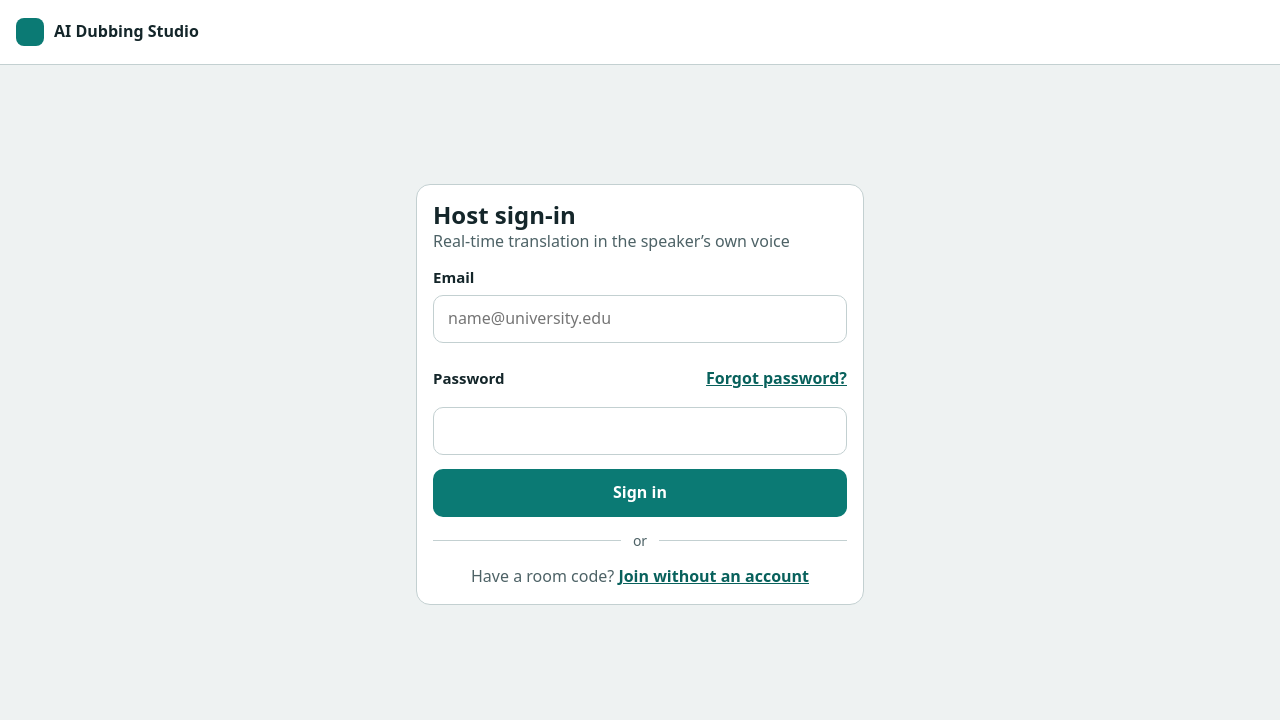
SignInPage › shows an error for wrong credentials, stays signed out, and allows another try
In the field labelled "Email": (640, 319) [433,295,847,343], type "host@example.test"
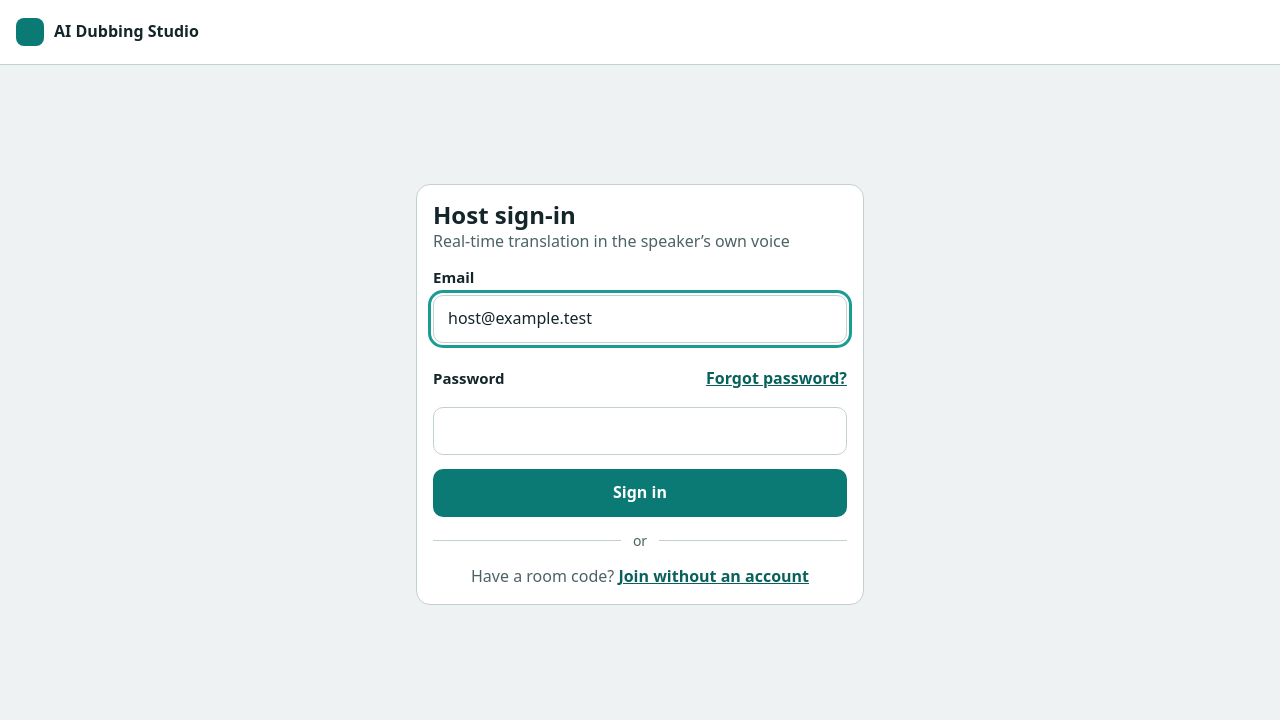
In the password field labelled "Password": (640, 431) [433,407,847,455], type "nope"
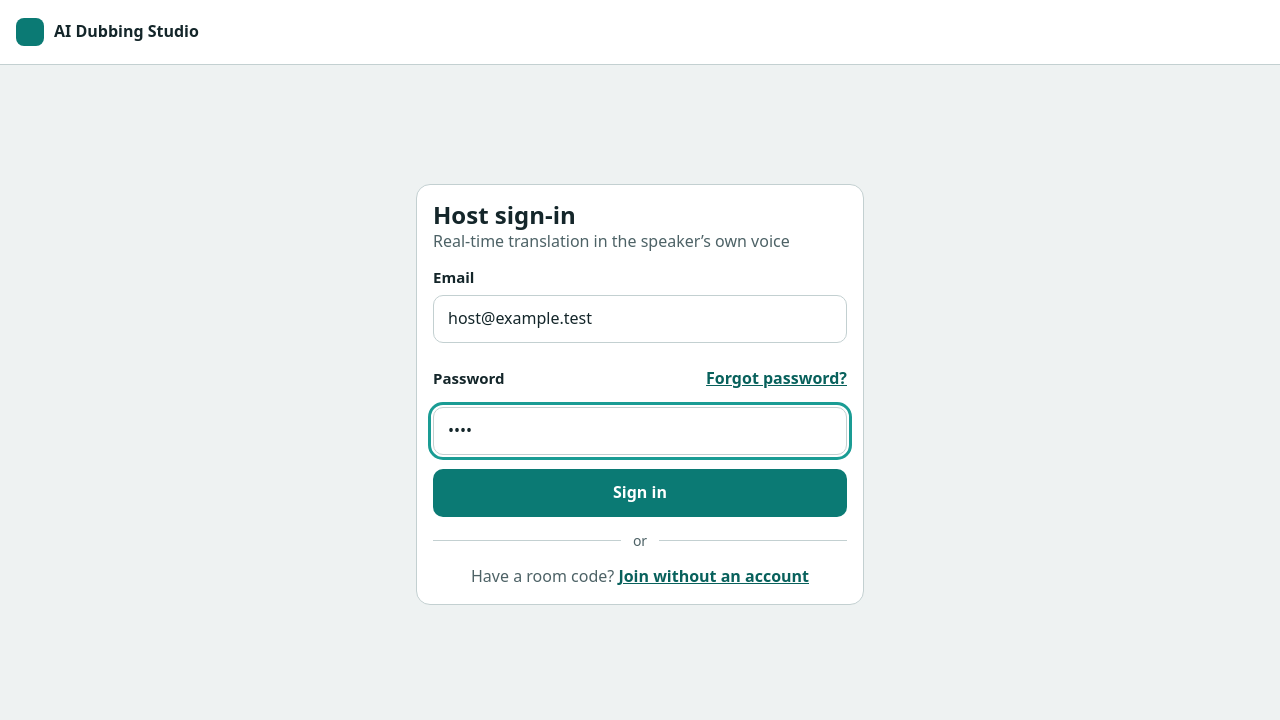
Click the button "Sign in": (640, 493) [433,469,847,517]
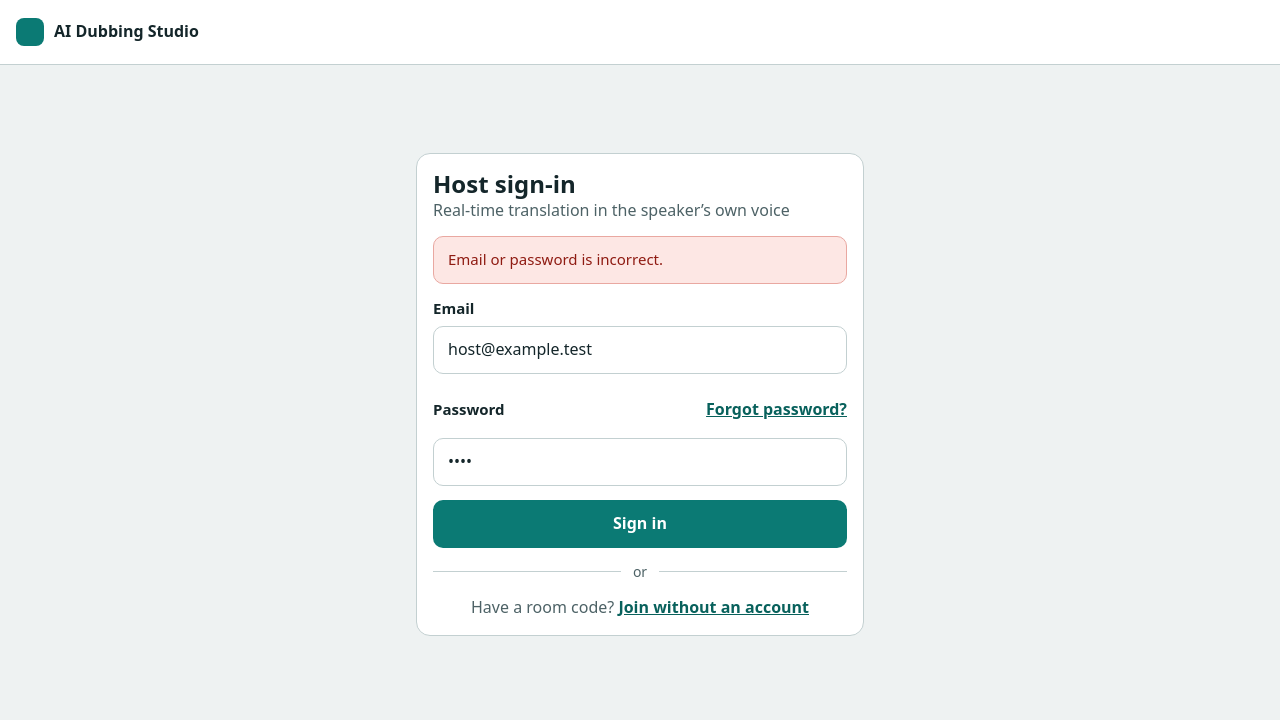
Check: the button "Sign in" is enabled, box [433,500,847,548]
Check: the message shows "incorrect", box [448,249,663,269]
